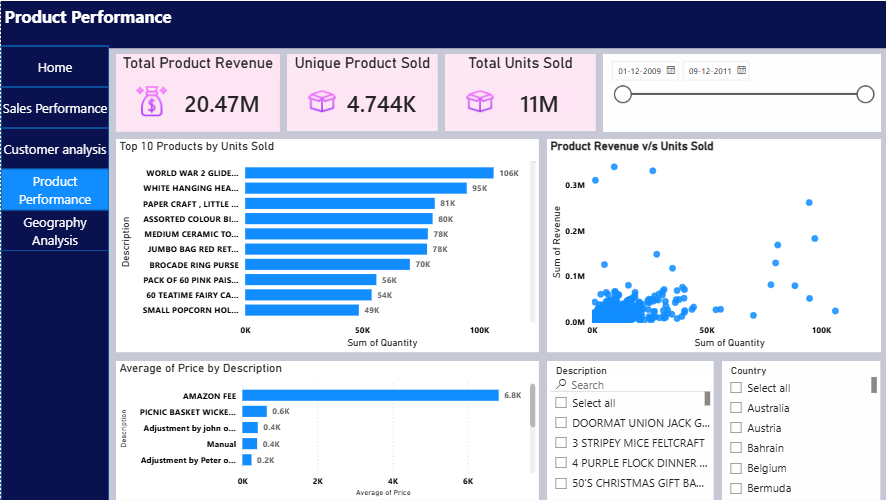

This screenshot's page, from the dashboard's own definition file:
{"tool":"powerbi","page":{"name":"Product Performance","canvas":[1280,720],"ordinal":3},"visuals":[{"type":"textbox","box":[0,0,1280.2,67.7],"z":0},{"type":"cardVisual","title":"Total Units Sold","fields":{"Data":["Sum(ecommerce_sales_cleaned.Quantity)"]},"box":[639.4,76.3,217.4,110.9],"z":1000},{"type":"shape","box":[0,63.4,155.5,656.6],"z":2000},{"type":"cardVisual","title":"Total Product Revenue","fields":{"Data":["Sum(ecommerce_sales_cleaned.Revenue)"]},"box":[165.6,76.3,236.2,112.3],"z":3000},{"type":"cardVisual","title":"Unique Product Sold","fields":{"Data":["Count(ecommerce_sales_cleaned.StockCode)"]},"box":[411.8,76.3,217.4,110.9],"z":4000},{"type":"clusteredBarChart","title":"Top 10 Products by Units Sold","fields":{"Category":["ecommerce_sales_cleaned.Description"],"Y":["Sum(ecommerce_sales_cleaned.Quantity)"]},"box":[165.6,198.7,609.1,306.7],"z":5000},{"type":"scatterChart","title":"Product Revenue v/s Units Sold","fields":{"X":["Sum(ecommerce_sales_cleaned.Quantity)"],"Y":["Sum(ecommerce_sales_cleaned.Revenue)"],"Category":["ecommerce_sales_cleaned.StockCode"]},"box":[786.2,198.7,481,306.7],"z":6000},{"type":"clusteredBarChart","fields":{"Category":["ecommerce_sales_cleaned.Description"],"Y":["Avg(ecommerce_sales_cleaned.Price)"]},"box":[165.6,518.4,609.1,200.2],"z":7000},{"type":"slicer","fields":{"Values":["ecommerce_sales_cleaned.Description"]},"box":[786.2,518.4,240.5,200.2],"z":8000},{"type":"slicer","title":"Data Range","fields":{"Values":["ecommerce_sales_cleaned.InvoiceDate"]},"box":[866.9,76.3,398.9,112.3],"z":9000},{"type":"slicer","fields":{"Values":["ecommerce_sales_cleaned.Country"]},"box":[1038.2,518.4,227.5,200.2],"z":10000},{"type":"shape","box":[0,64.8,155.5,59],"z":11000},{"type":"shape","box":[0,123.8,155.5,59],"z":12000},{"type":"shape","box":[0,182.9,155.5,59],"z":13000},{"type":"shape","box":[0,241.9,155.5,59],"z":14000},{"type":"shape","box":[0,301,155.5,59],"z":15000}]}

Visuals, with their boxes on the page's 1280x720 design canvas (x1, y1, x2, y2). These are canvas units, not pixel positions in the 886x500 screenshot, which may show the page scaled, cropped or inside an application window:
textbox: select_region(0, 0, 1280, 68)
"Total Units Sold" cardVisual: select_region(639, 76, 857, 187)
shape: select_region(0, 63, 156, 720)
"Total Product Revenue" cardVisual: select_region(166, 76, 402, 189)
"Unique Product Sold" cardVisual: select_region(412, 76, 629, 187)
"Top 10 Products by Units Sold" clusteredBarChart: select_region(166, 199, 775, 505)
"Product Revenue v/s Units Sold" scatterChart: select_region(786, 199, 1267, 505)
clusteredBarChart - ecommerce_sales_cleaned.Description x Avg(ecommerce_sales_cleaned.Price): select_region(166, 518, 775, 719)
slicer - ecommerce_sales_cleaned.Description: select_region(786, 518, 1027, 719)
"Data Range" slicer: select_region(867, 76, 1266, 189)
slicer - ecommerce_sales_cleaned.Country: select_region(1038, 518, 1266, 719)
shape: select_region(0, 65, 156, 124)
shape: select_region(0, 124, 156, 183)
shape: select_region(0, 183, 156, 242)
shape: select_region(0, 242, 156, 301)
shape: select_region(0, 301, 156, 360)
